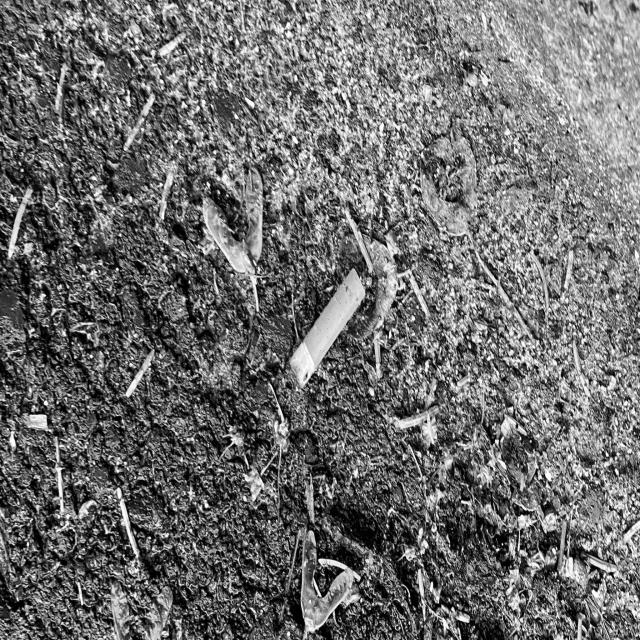other waste: (287, 262, 367, 391)
